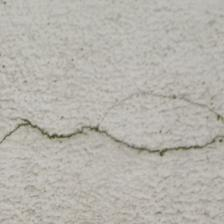Crack: (81, 72, 143, 152), (106, 199, 144, 224)
